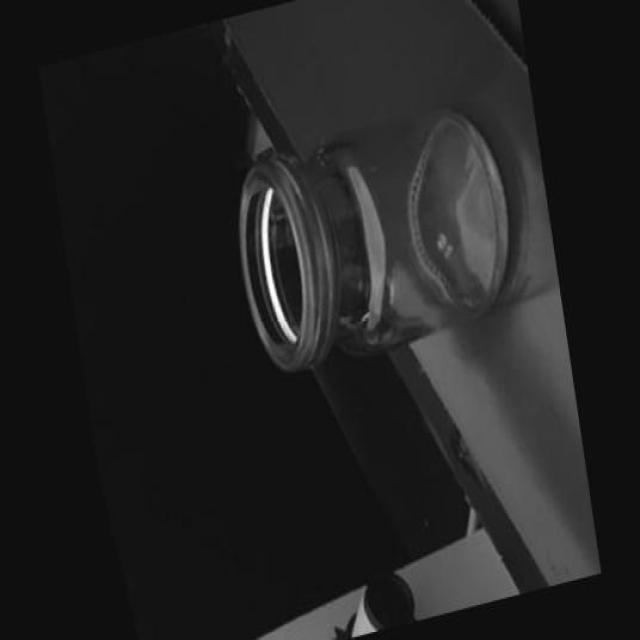defect: (355, 309, 373, 326)
glass: (206, 49, 540, 410)
